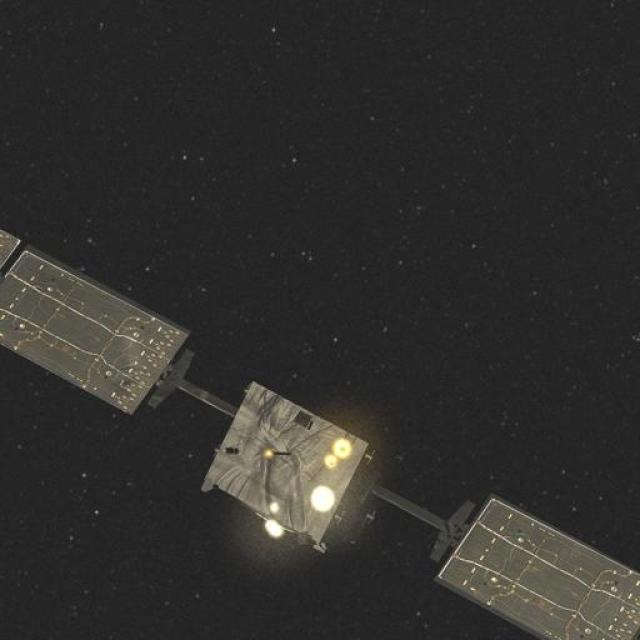smart_1: (60, 311, 502, 625)
